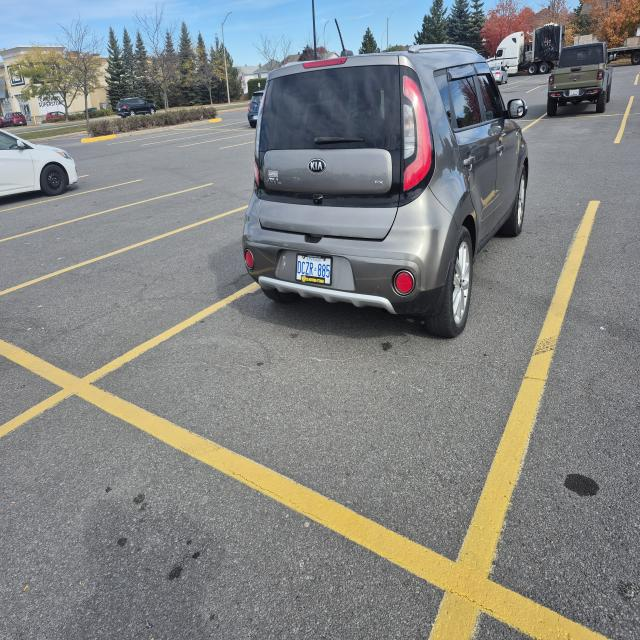plaque: (296, 255, 331, 285), (569, 89, 579, 97)
